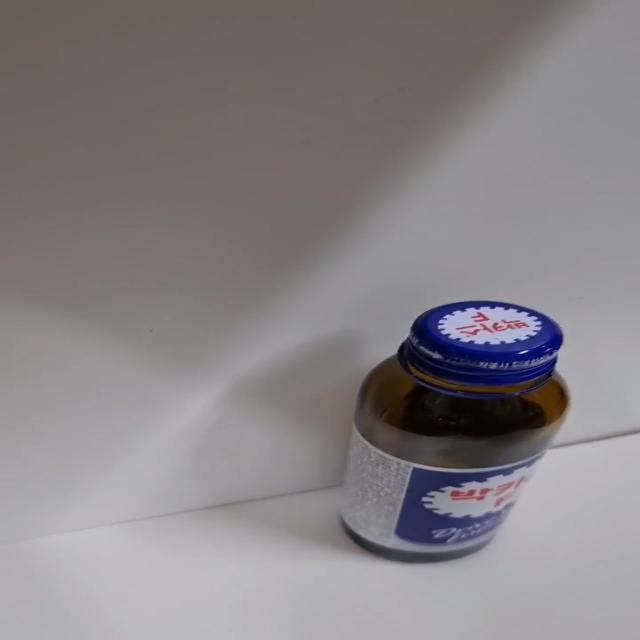Glass: (338, 300, 572, 566)
